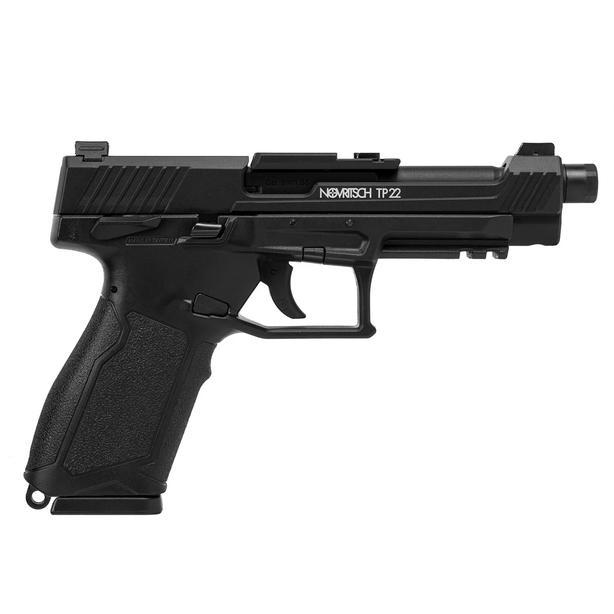Firearm: (23, 93, 603, 549)
